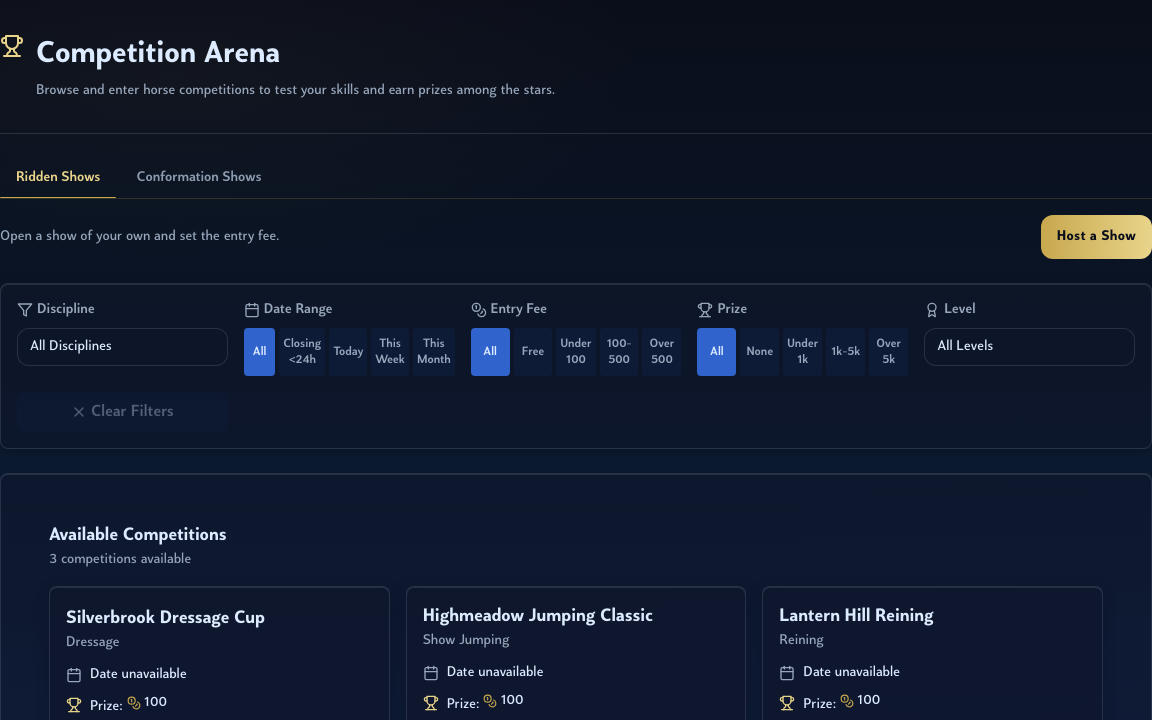
Test: CompetitionBrowserPage — filters apply to the list (Equoria-oey96.12) › says so when the filters match nothing, and Clear Filters restores the list
The width and height of the screenshot is (1152, 720).
Expected: the heading "Silverbrook Dressage Cup" is shown, [66,609,265,628]
Select "Dressage" in the dropdown with test id "filter-discipline" at coordinates (122, 347), box [17,328,228,366]
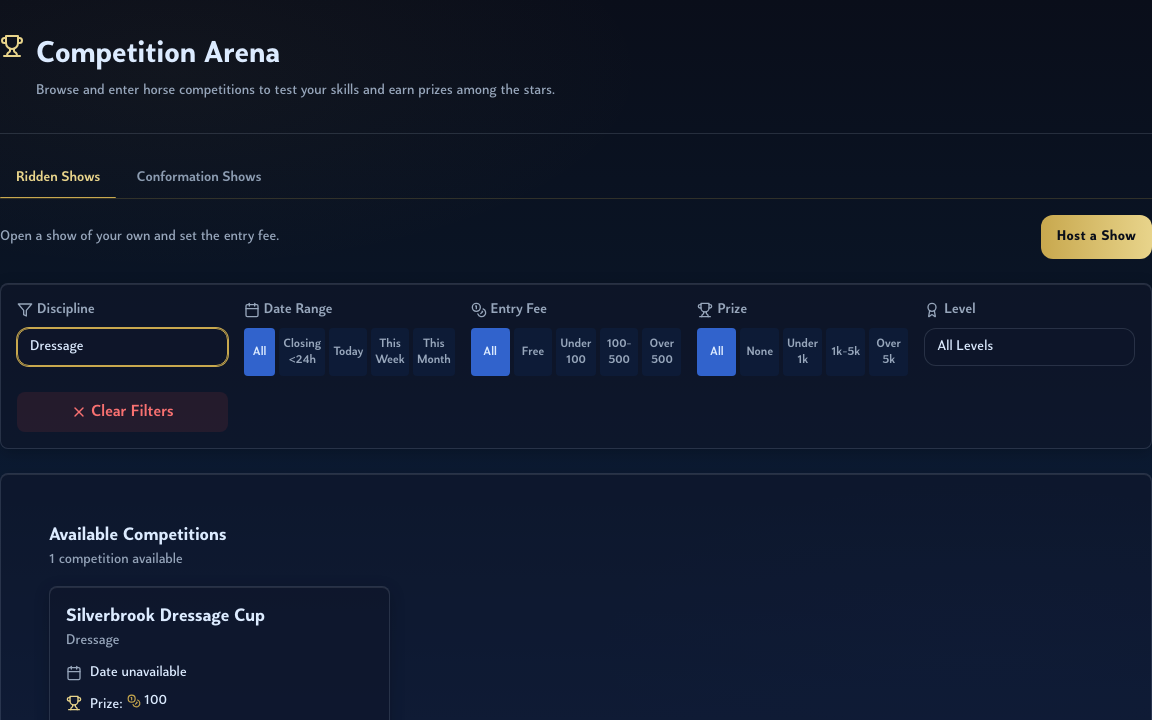
Click the button with test id "filter-fee-over500" at coordinates (662, 352), box [642,328,681,376]
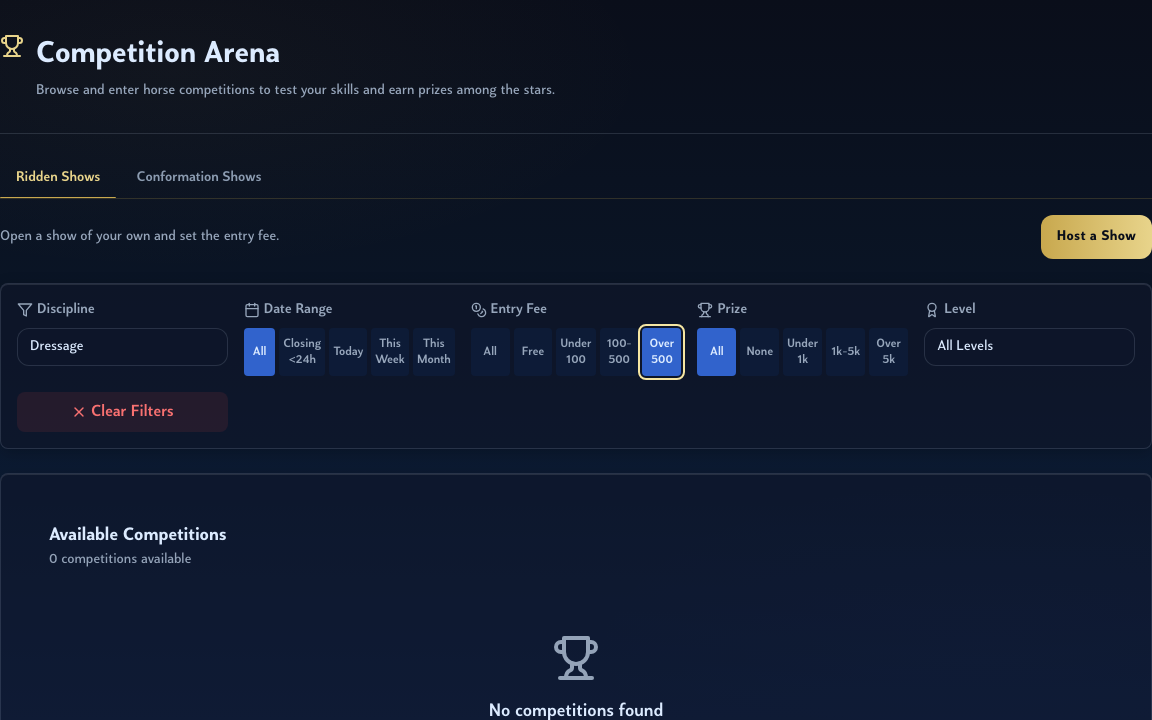
Click the button with test id "filter-clear" at coordinates (122, 412), box [17,392,228,432]
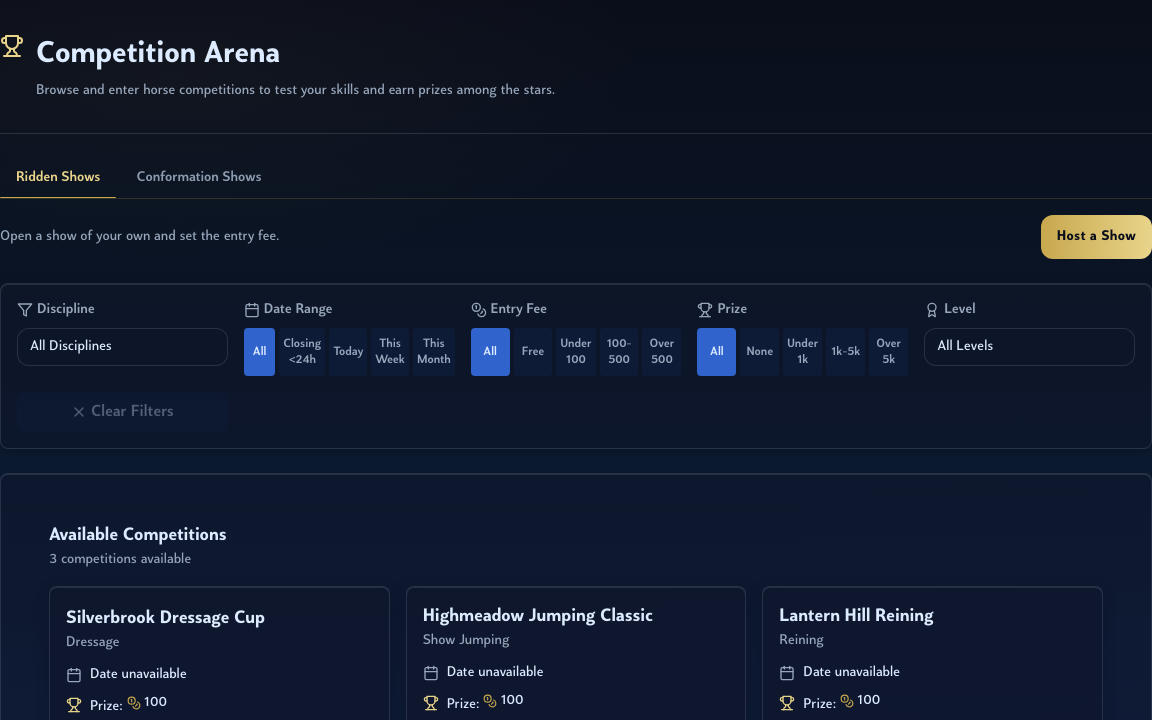
Expected: the heading "Silverbrook Dressage Cup" is shown, [66,609,265,628]
